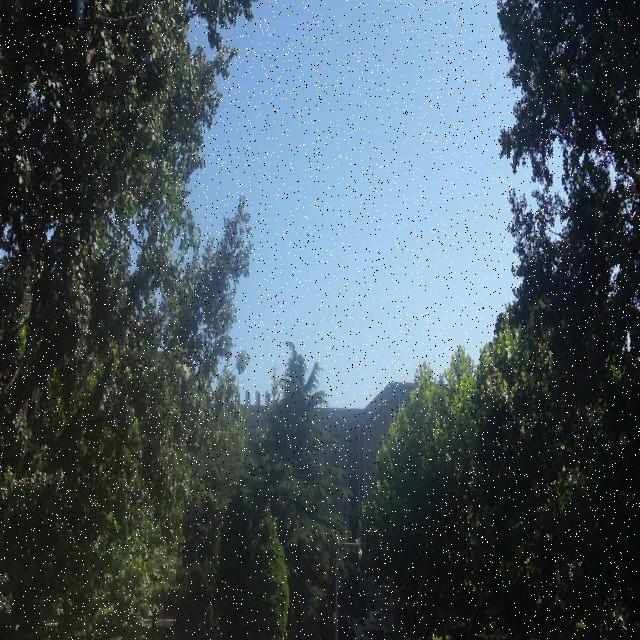UAV: (289, 458, 302, 464)
